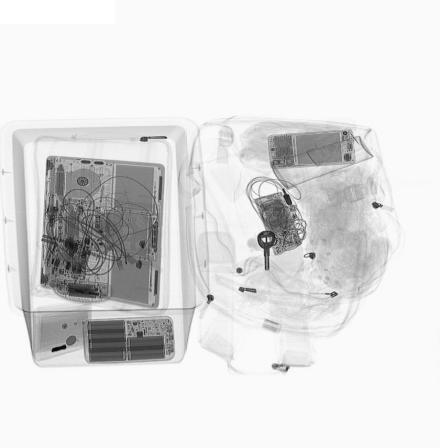Powerbank: (82, 316, 177, 362)
